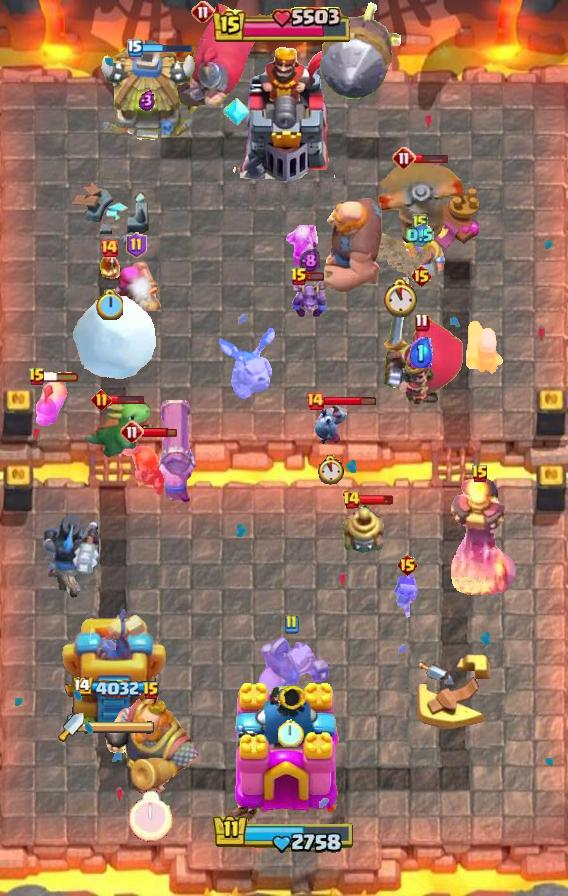balloon: (317, 193, 385, 295)
bar: (62, 601, 166, 731)
battle-healer: (153, 400, 199, 504)
bomber: (98, 253, 120, 279)
clock: (212, 813, 356, 855), (213, 7, 355, 45)
dark-prince: (376, 161, 466, 247)
electro-dragon: (441, 476, 519, 602)
electro-spirit: (411, 336, 434, 367), (406, 224, 434, 249), (300, 248, 321, 274), (139, 89, 155, 111)
electro-wizard: (82, 397, 153, 460)
elixir: (129, 790, 173, 841), (381, 278, 419, 318), (316, 455, 344, 485), (97, 289, 123, 320), (278, 717, 304, 746)
emote: (141, 42, 193, 54), (323, 397, 376, 408), (44, 371, 80, 383), (110, 393, 146, 405), (142, 426, 178, 438), (358, 494, 394, 506), (414, 152, 449, 164), (306, 271, 326, 282)
executioner: (36, 374, 68, 426)
fisherman: (369, 233, 431, 281)
freeze: (252, 637, 330, 703)
giant-skeleton: (97, 696, 205, 800)
goblin: (392, 574, 422, 620)
goblin-drill: (340, 505, 388, 555)
goblin-giant: (396, 232, 445, 275)
hog-rider: (118, 437, 172, 497)
inferno-dragon: (42, 512, 102, 602)
king-tower: (222, 680, 346, 826), (230, 45, 338, 181)
king-tower-bar: (84, 720, 156, 734)
mini-pekka: (216, 326, 280, 402)
pad_2: (222, 96, 250, 128)
prince: (96, 49, 198, 145)
royal-delivery: (288, 277, 330, 321), (309, 404, 351, 446)
selected: (70, 677, 158, 699)
text: (191, 0, 215, 24), (392, 146, 416, 170), (120, 420, 144, 444), (411, 264, 434, 288), (397, 553, 420, 577), (126, 232, 147, 258), (91, 390, 112, 411), (99, 238, 119, 258), (305, 391, 325, 411), (342, 490, 361, 510), (290, 267, 308, 287), (28, 367, 46, 387), (471, 464, 489, 484), (142, 681, 160, 701), (412, 213, 428, 233), (283, 614, 299, 634), (127, 39, 143, 57)
tombstone: (111, 257, 161, 311), (464, 318, 506, 376)
wall-breaker: (71, 293, 157, 379)
wall-breaker-evolution: (143, 0, 265, 114), (379, 276, 463, 404)
x-bow: (319, 1, 409, 100)
zap: (286, 222, 324, 268)
